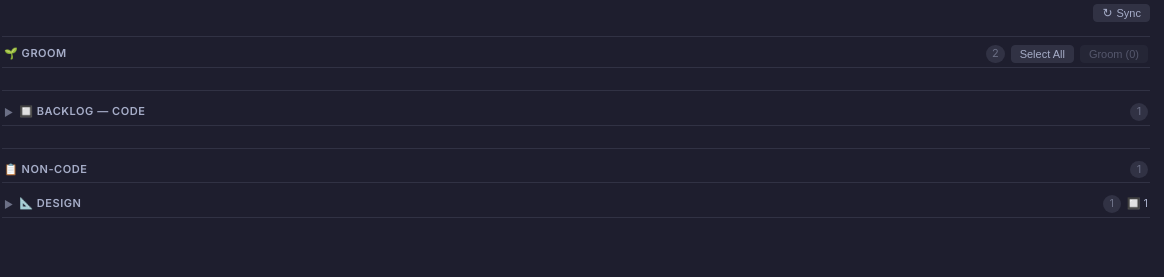
Scenario: TaskList › Groom(N) button › Select All selects both code and non-code Backlog tasks
Click the button with test id "group-header-backlog" at x=82, y=111, box [2, 99, 1150, 126]
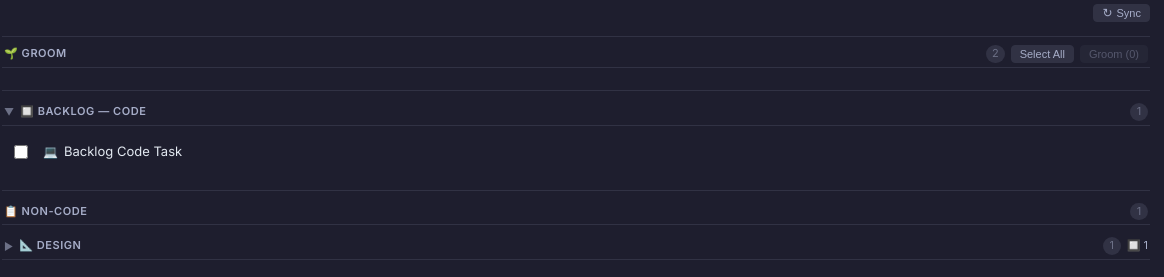
Click the button with test id "groom-select-all-btn" at x=1042, y=54, box [1011, 45, 1074, 63]
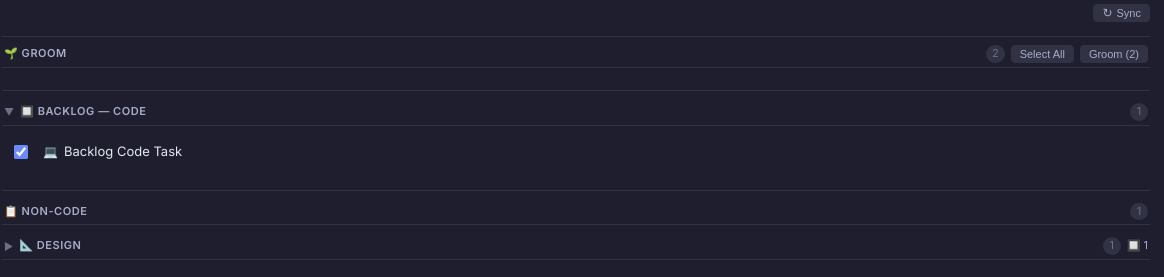
Expected: the button with test id "groom-btn" reads "Groom (2)", [1080, 45, 1148, 63]
